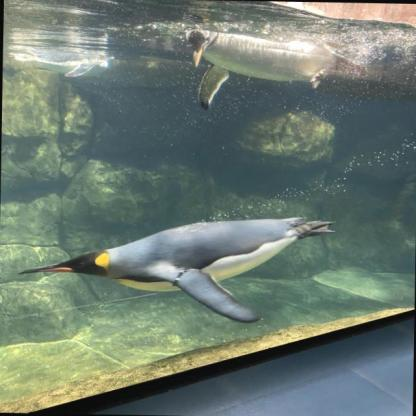penguin: (15, 210, 336, 324), (179, 27, 362, 111), (9, 46, 110, 77)
